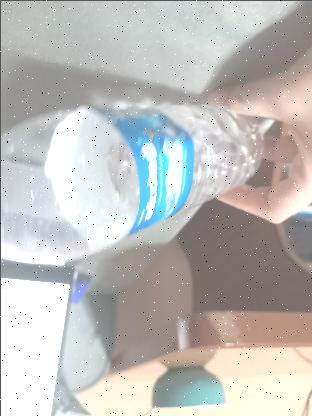Plastic Bottle: (0, 94, 266, 264)
